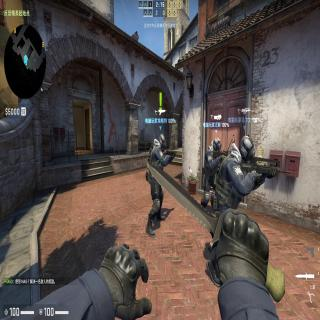CT-Head: (238, 135, 256, 166), (213, 136, 222, 154), (158, 134, 166, 153)
